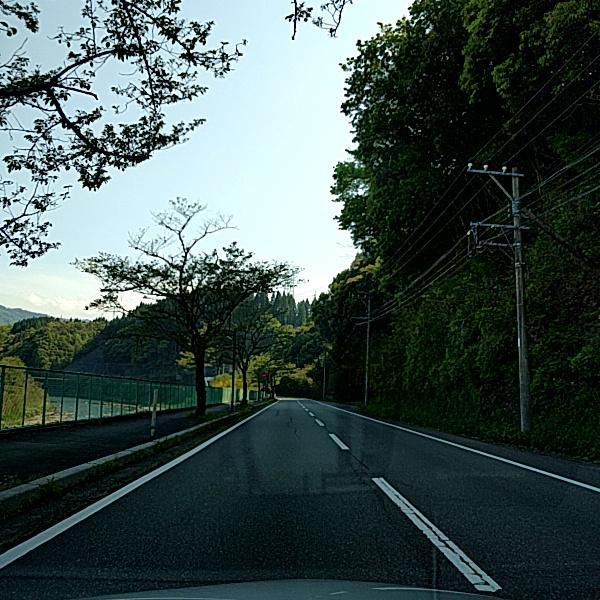D00: (344, 453, 403, 530), (286, 412, 300, 437)
